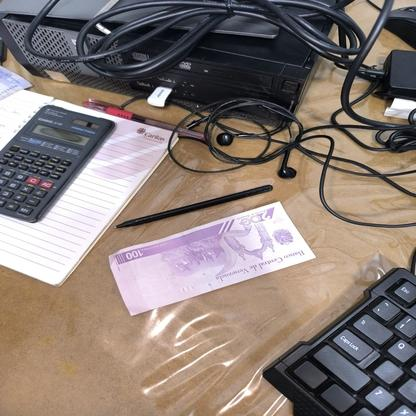one_hundred-back-vef: (107, 200, 316, 317)
